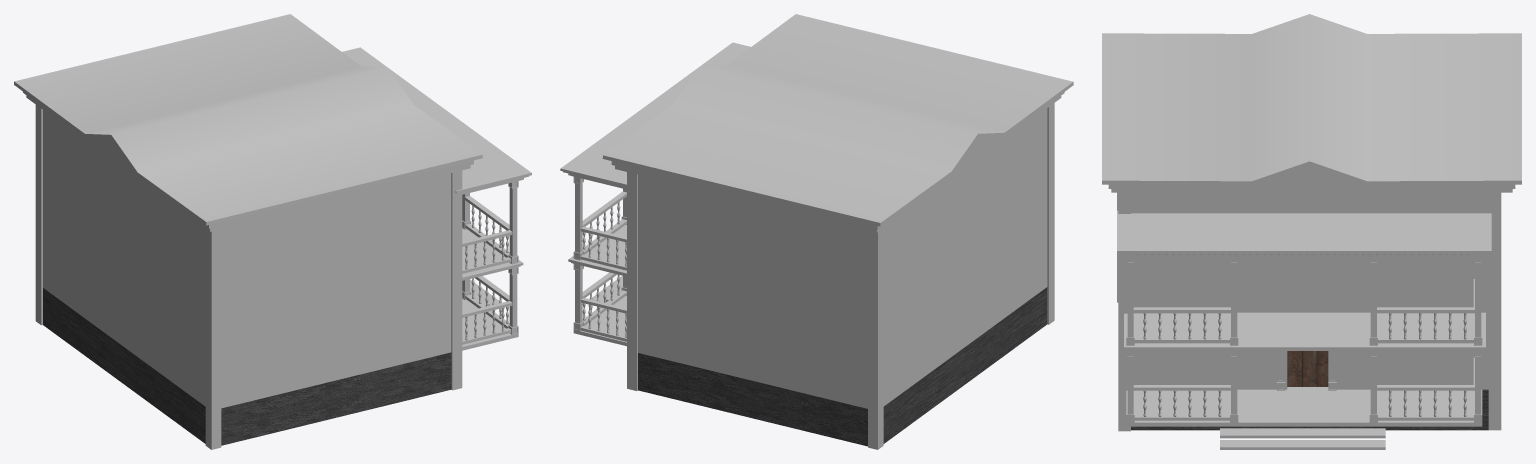
File: tavern.fbx
The picture shows the model from 3 angles, left to right: view 1: azimuth 30°, elevation 25°; view 2: azimuth 150°, elevation 25°; view 3: azimuth 270°, elevation 25°; orthographic projection. The views are drawn at different scales.
Visible parts, largest first — view 1: Tavern_Roof, Tavern_LeftWall, Tavern_BackWall, Foundation, Tavern_SecondFloorRoof, pCube67, pCube68, pCube66, Tavern_FirstFloorRoof, Tavern_PorchFloor, Tavern_SecondFloorPorch_SupportBeam01, Tavern_FirstFloorPorch_SupportBeam01; view 2: Tavern_Roof, Tavern_RightWall, Tavern_BackWall, Foundation, Tavern_SecondFloorRoof, pCube66, pCube65, pCube67, Tavern_FirstFloorRoof, Tavern_PorchFloor, Tavern_SecondFloorPorch_SupportBeam04, Tavern_FirstFloorPorch_SupportBeam04; view 3: Tavern_Roof, Tavern_FrontWall, Tavern_SecondFloorRoof, Tavern_FirstFloorRoof, Tavern_PorchFloor, Foundation, pCube65, pCube68, Tavern_PorchStep01, Tavern_PorchStep02, Tavern_SecondFloorPorch_FrontRailing_RightGroup_RailingTop, Tavern_SecondFloorPorch_FrontRailing_LeftGroup_RailingTop (+14 smaller).
Boxes of the visible parts, <box> form: Tavern_Roof: <box>14,14,482,231</box>; Tavern_LeftWall: <box>221,173,451,408</box>; Tavern_BackWall: <box>43,110,205,406</box>; Foundation: <box>43,288,451,445</box>; Tavern_SecondFloorRoof: <box>342,47,531,194</box>; pCube67: <box>205,229,221,449</box>; pCube68: <box>451,170,462,390</box>; pCube66: <box>35,105,42,325</box>; Tavern_FirstFloorRoof: <box>462,228,523,280</box>; Tavern_PorchFloor: <box>462,299,518,350</box>; Tavern_SecondFloorPorch_SupportBeam01: <box>508,181,518,264</box>; Tavern_FirstFloorPorch_SupportBeam01: <box>508,267,518,334</box>; Tavern_Roof: <box>602,14,1073,232</box>; Tavern_RightWall: <box>638,174,867,408</box>; Tavern_BackWall: <box>883,108,1047,406</box>; Foundation: <box>638,287,1047,446</box>; Tavern_SecondFloorRoof: <box>560,42,750,189</box>; pCube66: <box>868,228,883,449</box>; pCube65: <box>627,172,637,390</box>; pCube67: <box>1047,103,1054,324</box>; Tavern_FirstFloorRoof: <box>568,225,626,276</box>; Tavern_PorchFloor: <box>573,295,626,346</box>; Tavern_SecondFloorPorch_SupportBeam04: <box>573,176,583,260</box>; Tavern_FirstFloorPorch_SupportBeam04: <box>573,264,583,330</box>; Tavern_Roof: <box>1102,14,1521,192</box>; Tavern_FrontWall: <box>1131,172,1498,389</box>; Tavern_SecondFloorRoof: <box>1117,210,1491,256</box>; Tavern_FirstFloorRoof: <box>1124,312,1485,350</box>; Tavern_PorchFloor: <box>1126,387,1482,426</box>; Foundation: <box>1131,351,1488,430</box>; pCube65: <box>1488,192,1501,430</box>; pCube68: <box>1118,192,1130,431</box>; Tavern_PorchStep01: <box>1220,428,1385,438</box>; Tavern_PorchStep02: <box>1220,440,1385,449</box>; Tavern_SecondFloorPorch_FrontRailing_RightGroup_RailingTop: <box>1377,307,1476,313</box>; Tavern_SecondFloorPorch_FrontRailing_LeftGroup_RailingTop: <box>1133,307,1230,313</box>.
Bounding box in the file's own units: 5.26 × 3.63 × 4.98.
